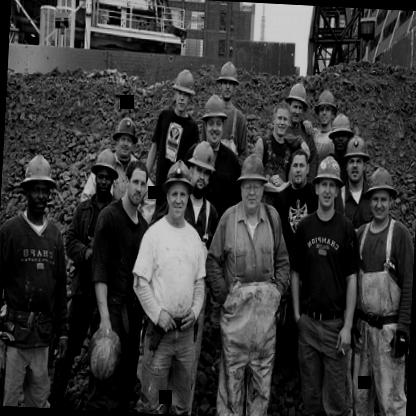helmet: (18, 149, 58, 217), (161, 158, 194, 218), (364, 165, 398, 222), (235, 150, 267, 210), (313, 154, 342, 208), (188, 140, 216, 194), (90, 145, 119, 195), (201, 92, 226, 146), (171, 65, 197, 114), (343, 136, 368, 183), (326, 110, 353, 152), (112, 115, 138, 158), (312, 87, 338, 126), (286, 82, 310, 124), (216, 60, 240, 99)
